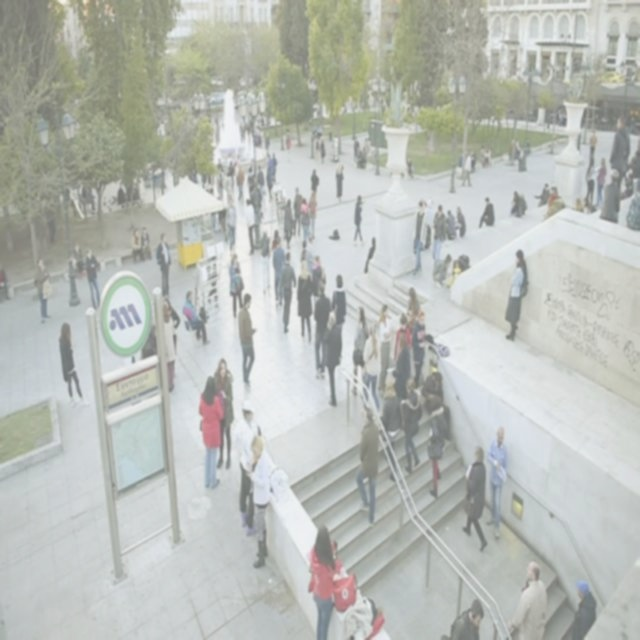pessoa: (306, 520, 344, 639), (244, 430, 276, 570), (196, 372, 228, 490), (504, 556, 549, 639), (236, 398, 261, 538), (56, 318, 91, 410), (484, 424, 510, 542), (461, 442, 488, 554), (356, 406, 380, 530), (397, 374, 424, 474), (426, 390, 450, 500), (378, 374, 402, 482), (212, 356, 234, 472), (419, 370, 452, 446), (236, 289, 260, 391), (608, 113, 632, 214), (321, 309, 344, 408), (360, 318, 382, 421), (504, 246, 527, 342), (312, 277, 332, 379), (351, 306, 372, 396), (276, 249, 297, 335), (182, 288, 212, 348), (408, 306, 428, 394), (569, 578, 598, 638), (295, 256, 314, 344), (330, 274, 348, 366), (390, 330, 412, 402), (376, 301, 392, 399), (32, 253, 53, 327), (449, 597, 485, 639), (162, 302, 178, 394), (539, 188, 565, 243), (429, 201, 448, 276), (598, 168, 622, 227), (412, 198, 429, 280), (204, 238, 222, 312), (84, 244, 102, 315), (271, 234, 287, 310), (156, 230, 172, 302), (162, 296, 181, 356), (392, 310, 412, 366), (228, 252, 244, 319), (299, 238, 315, 298), (584, 154, 602, 207), (258, 228, 272, 296), (310, 253, 327, 307), (624, 175, 640, 232), (431, 250, 454, 288), (139, 314, 157, 362), (224, 198, 238, 258), (282, 196, 296, 253), (248, 180, 263, 233), (544, 186, 566, 222), (352, 192, 366, 247), (244, 198, 256, 258), (273, 180, 287, 230), (44, 189, 56, 247), (596, 154, 608, 210), (478, 194, 496, 230), (292, 185, 304, 238), (71, 241, 87, 280), (138, 224, 154, 263), (306, 190, 318, 240), (618, 168, 635, 202), (0, 258, 12, 306), (628, 129, 640, 176), (452, 252, 472, 280), (0, 589, 11, 639), (300, 196, 312, 241), (508, 189, 526, 219), (334, 160, 346, 204), (130, 226, 143, 266), (461, 149, 474, 188), (364, 234, 376, 274), (454, 204, 467, 239), (256, 163, 266, 208), (446, 260, 462, 288), (253, 180, 263, 224), (264, 161, 274, 204), (405, 286, 418, 318), (532, 185, 550, 208), (445, 208, 457, 242), (236, 162, 246, 202), (310, 166, 320, 206), (216, 165, 226, 203), (224, 170, 233, 210), (588, 126, 598, 162), (405, 153, 417, 183), (210, 209, 226, 231), (232, 152, 242, 187), (422, 195, 434, 222), (584, 195, 598, 218), (115, 184, 126, 209), (270, 228, 281, 252), (312, 134, 320, 167), (358, 145, 368, 171), (354, 144, 364, 170), (207, 168, 216, 196), (247, 167, 256, 194), (318, 137, 327, 164), (555, 104, 566, 125), (142, 165, 152, 188), (327, 225, 342, 240), (353, 134, 360, 166), (62, 182, 69, 214), (204, 94, 212, 122), (248, 157, 256, 184), (424, 224, 432, 251), (228, 160, 235, 190), (383, 371, 397, 386), (573, 196, 584, 215), (628, 110, 636, 136), (272, 152, 278, 186), (469, 147, 477, 172), (362, 136, 371, 158), (186, 168, 198, 184), (266, 153, 276, 172), (194, 97, 202, 120), (264, 129, 270, 159), (514, 136, 522, 158), (270, 178, 278, 200), (560, 57, 568, 79), (156, 172, 163, 197), (125, 187, 134, 206), (508, 134, 514, 162), (378, 96, 390, 110), (484, 144, 491, 167), (315, 122, 323, 142), (200, 172, 208, 192), (132, 184, 140, 204), (70, 198, 78, 218), (518, 158, 528, 174), (254, 130, 262, 150), (243, 120, 251, 140), (576, 130, 582, 154), (238, 120, 244, 144), (160, 117, 166, 140), (215, 124, 221, 147), (87, 185, 96, 200), (586, 108, 592, 130), (311, 121, 318, 139), (173, 96, 182, 110), (618, 58, 625, 76), (458, 148, 464, 168), (524, 136, 530, 156), (81, 180, 87, 199), (163, 88, 169, 107), (227, 152, 234, 168), (546, 184, 552, 202), (286, 133, 292, 151), (612, 111, 617, 132), (226, 165, 234, 178), (171, 166, 176, 186), (251, 122, 255, 146), (484, 148, 489, 167), (367, 82, 372, 101), (190, 96, 194, 119), (160, 165, 166, 180), (217, 157, 223, 171), (594, 110, 600, 124), (342, 101, 348, 115), (544, 114, 550, 128), (89, 200, 97, 210), (498, 116, 503, 131), (220, 120, 225, 134), (214, 112, 219, 124), (464, 148, 468, 163), (260, 115, 264, 126), (284, 125, 290, 132), (250, 120, 252, 140)
